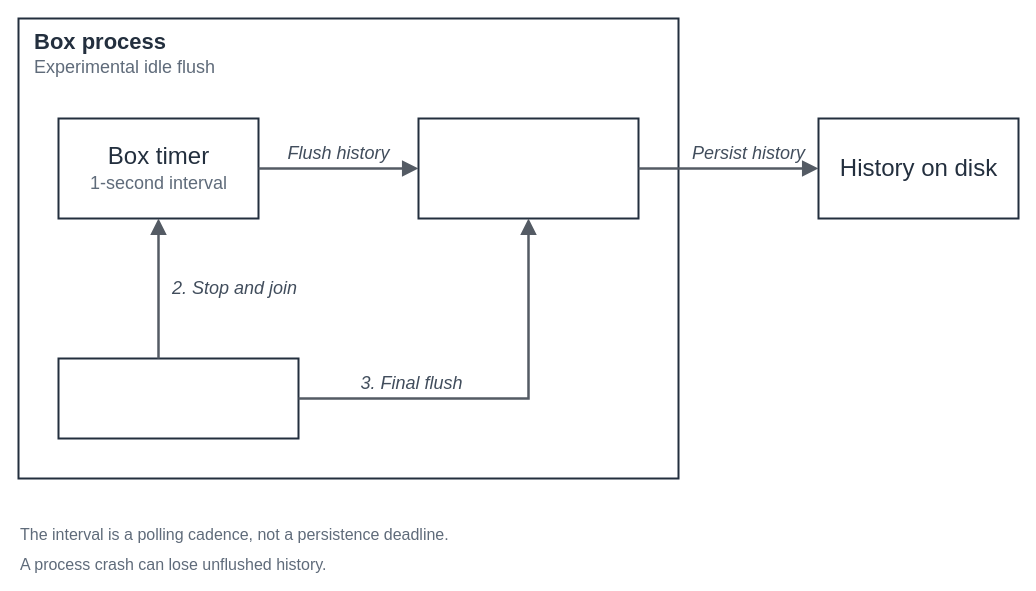
Some shapes in this 1036 by 591 pixel diagram are drawn without their labels. The shapes that lost their labels are listed below. From the top down, each one's centre as x and y in pixels, then its label:
At point (528, 168): "Policy engine Existing locks".
At point (178, 398): "Explicit shutdown 1. Stop and join producers".
